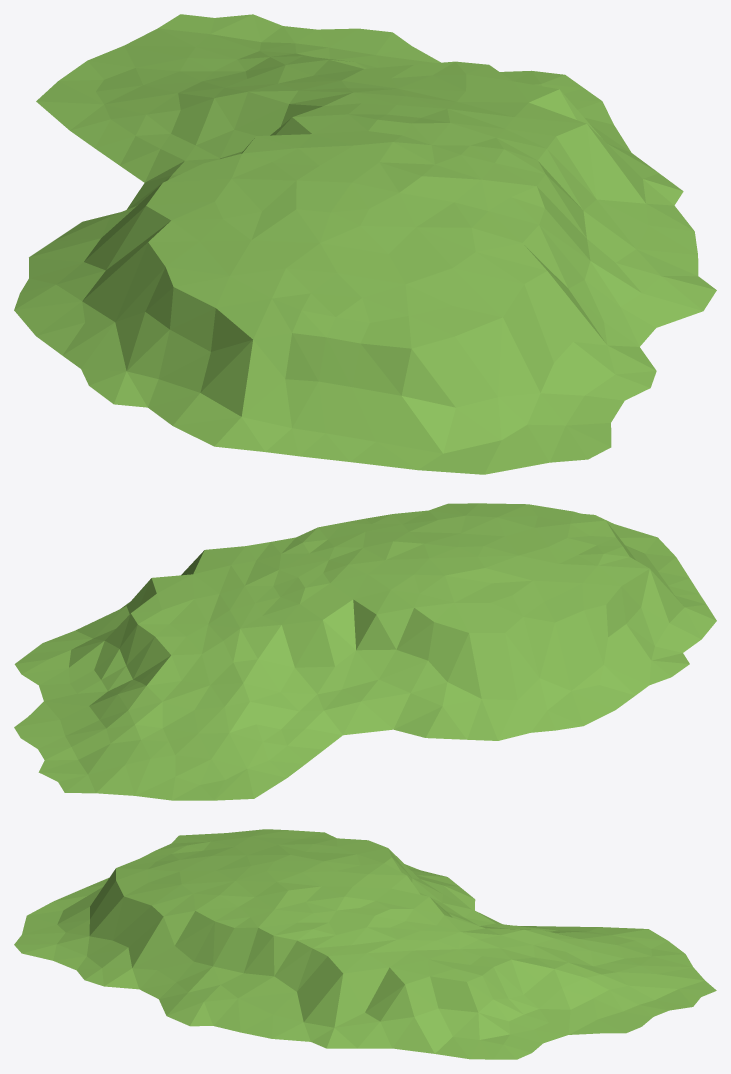
The model's file is MT_Mountain_L_c_16.fbx.
3 renders of one model, top to bottom at view 1: azimuth 30°, elevation 25°; view 2: azimuth 150°, elevation 25°; view 3: azimuth 270°, elevation 25°, orthographic. The views are drawn at different scales.
Parts seen in each view (by area): view 1: MT_Mountain_L_c_16; view 2: MT_Mountain_L_c_16; view 3: MT_Mountain_L_c_16.
Boxes of the visible parts, x1,y1,x2,y2 form: MT_Mountain_L_c_16: (14,14,716,474); MT_Mountain_L_c_16: (14,503,716,800); MT_Mountain_L_c_16: (14,829,716,1059).
Bounding box in the file's own units: 5015 × 789 × 7159.
